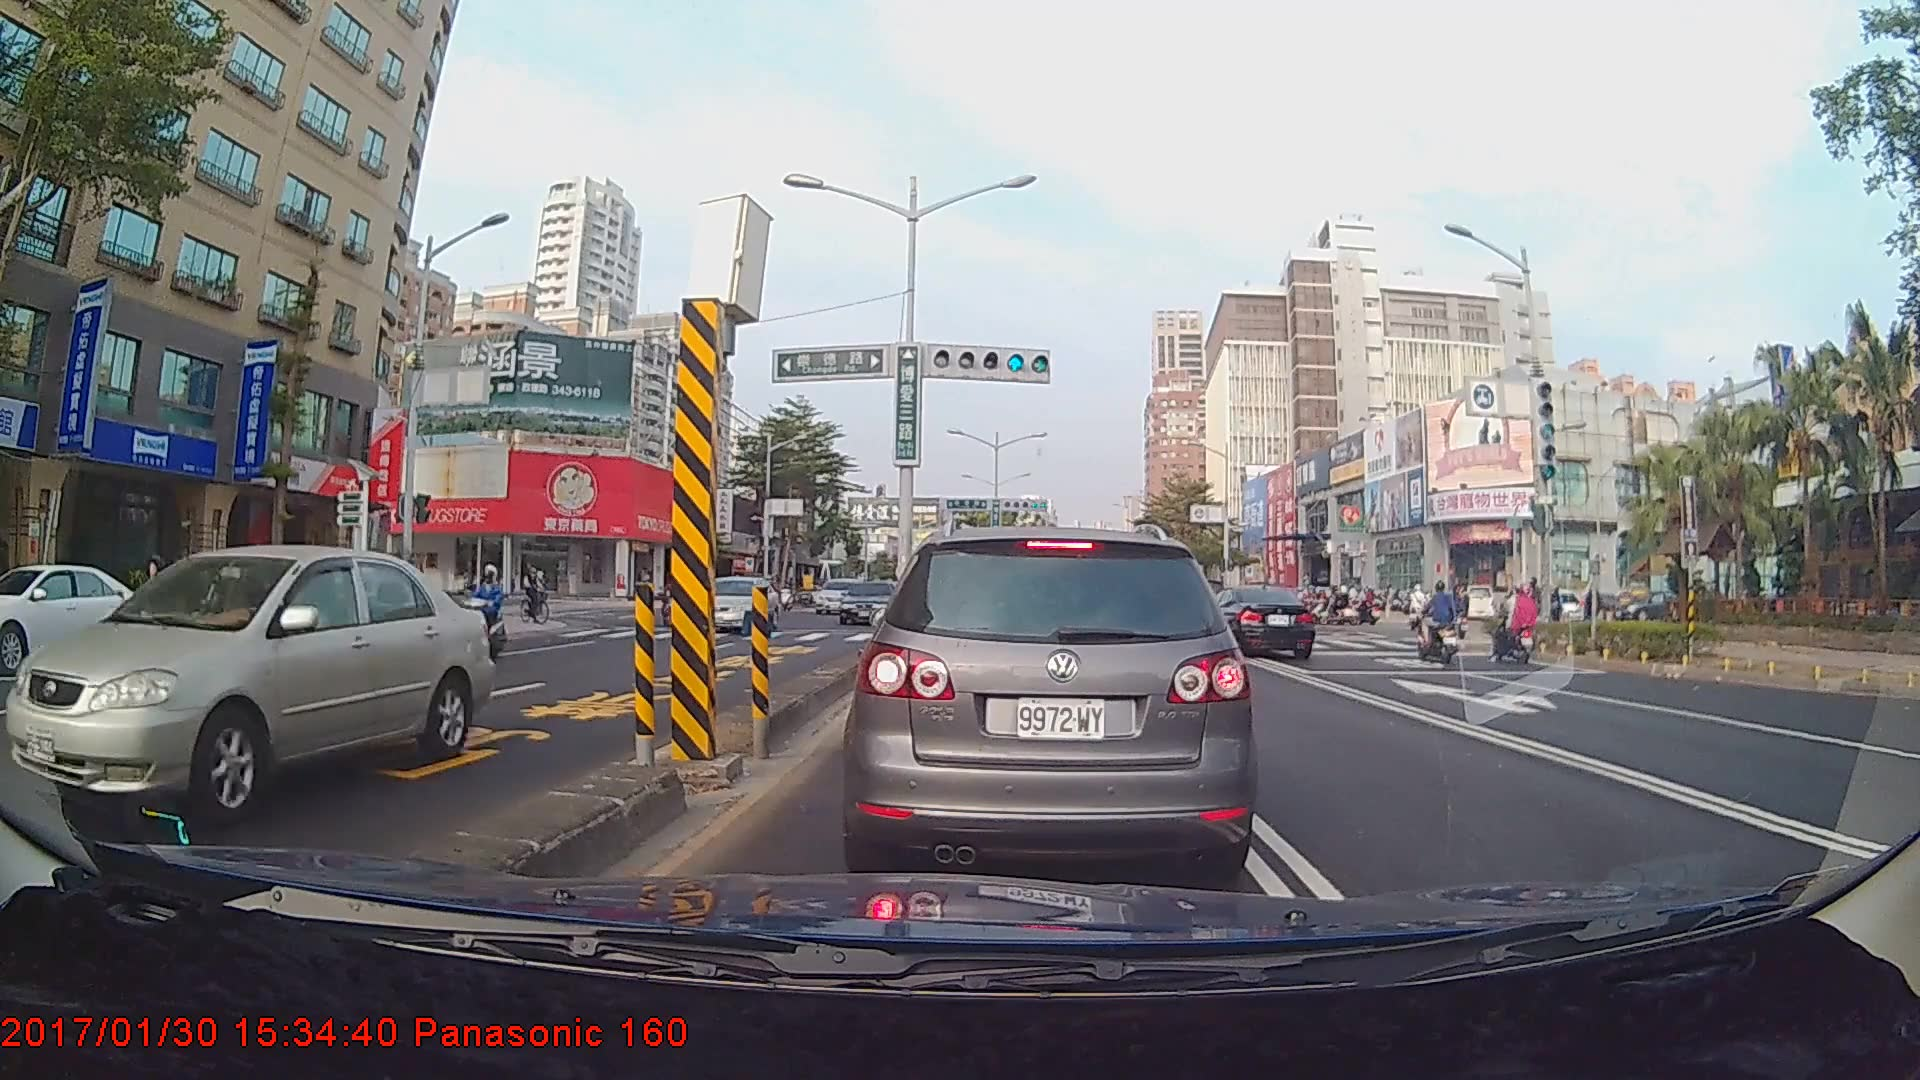rider: (1485, 582, 1548, 668), (456, 561, 513, 656), (1410, 580, 1468, 663), (518, 559, 561, 629)
vehicle: (0, 541, 495, 829), (854, 522, 1250, 881), (0, 561, 157, 671), (1191, 582, 1316, 661), (685, 574, 781, 633), (836, 577, 903, 625), (813, 577, 868, 615)
